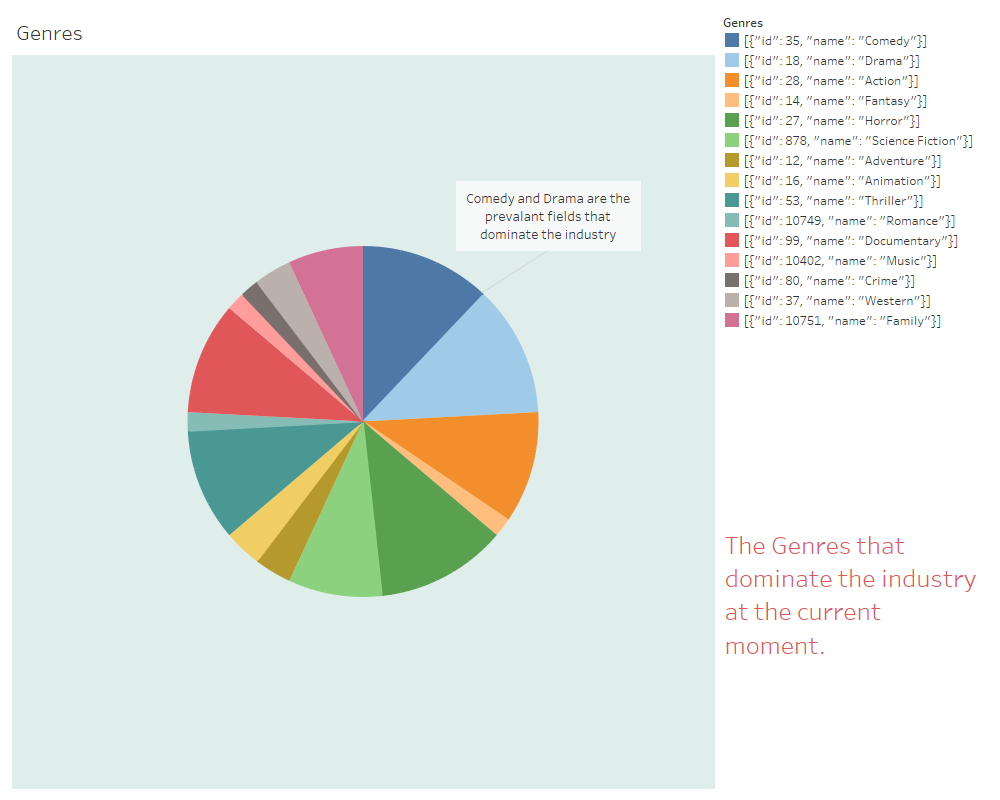

The page's visual inventory and layout, read from the dashboard file:
{"tool":"tableau","page":{"name":"Genres D","canvas":[1000,800],"ordinal":4},"visuals":[{"type":"worksheet","title":"Genres","mark":"Pie","box":[8,8,710,784]},{"type":"legend","title":"Genres","param":"[federated.1e6j1xd0wxnyjd10rs99603utfgw].[none:genres:nk]","box":[718,8,274,392]},{"type":"text","box":[718,400,274,392]}]}

Visuals, with their boxes in screenshot pixels (x1, y1, x2, y2), scaled from the page's 1000x800 canvas onto the 1000x800 screenshot:
"Genres" worksheet (Pie marks): (8, 8, 718, 792)
"Genres" legend: (718, 8, 992, 400)
text: (718, 400, 992, 792)
